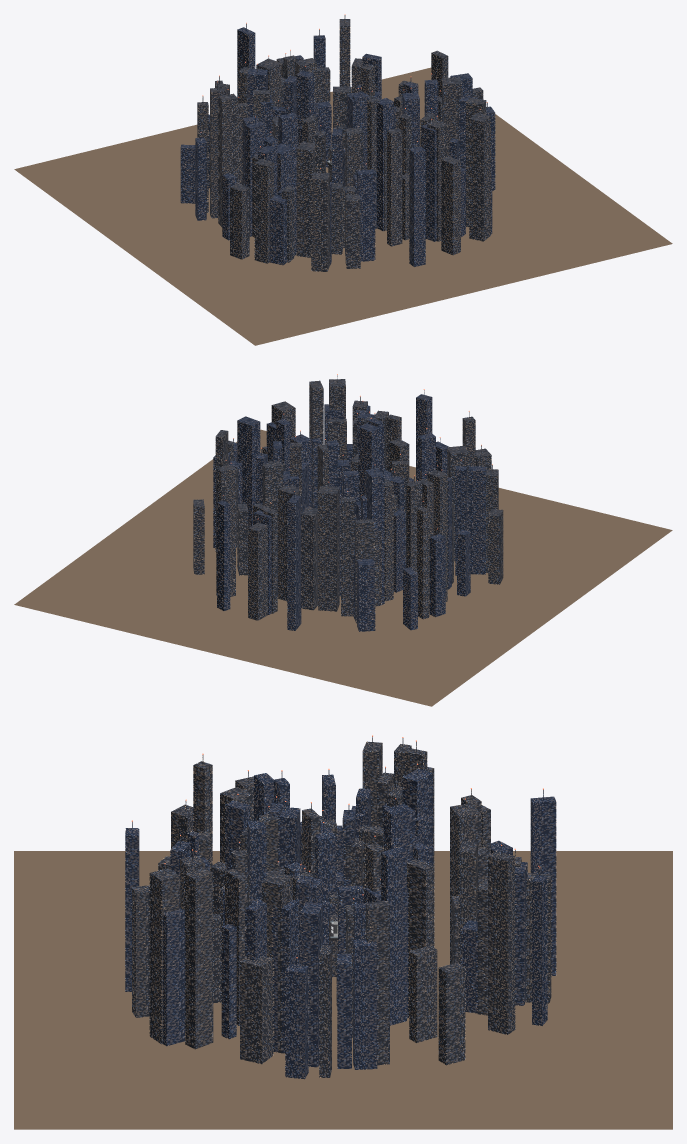
File: skyline.glb
3 renders of one model, top to bottom at view 1: azimuth 30°, elevation 25°; view 2: azimuth 150°, elevation 25°; view 3: azimuth 270°, elevation 25°, orthographic. The views are drawn at different scales.
Parts seen in each view (by area): view 1: City_Ground, Skyline_0, Skyline_1; view 2: City_Ground, Skyline_0, Skyline_1; view 3: City_Ground, Skyline_0, Skyline_1.
Boxes of the visible parts, box(x1,y1,x2,y2) form: City_Ground: box(14, 67, 672, 345); Skyline_0: box(197, 15, 490, 271); Skyline_1: box(180, 23, 495, 266); City_Ground: box(14, 429, 672, 706); Skyline_0: box(193, 375, 503, 623); Skyline_1: box(213, 390, 486, 631); City_Ground: box(14, 851, 672, 1129); Skyline_0: box(132, 736, 551, 1077); Skyline_1: box(125, 765, 556, 1079).
Bounding box in the file's own units: 800 × 254 × 800.
Materials: 28 (7 with a texture image).
